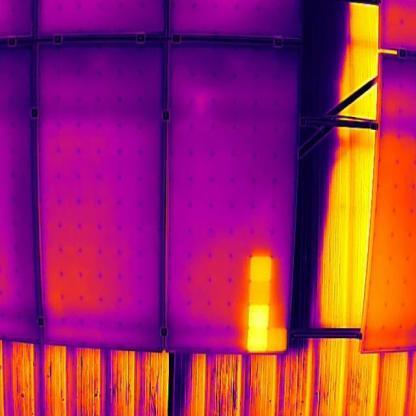anomaly: (237, 249, 292, 357)
